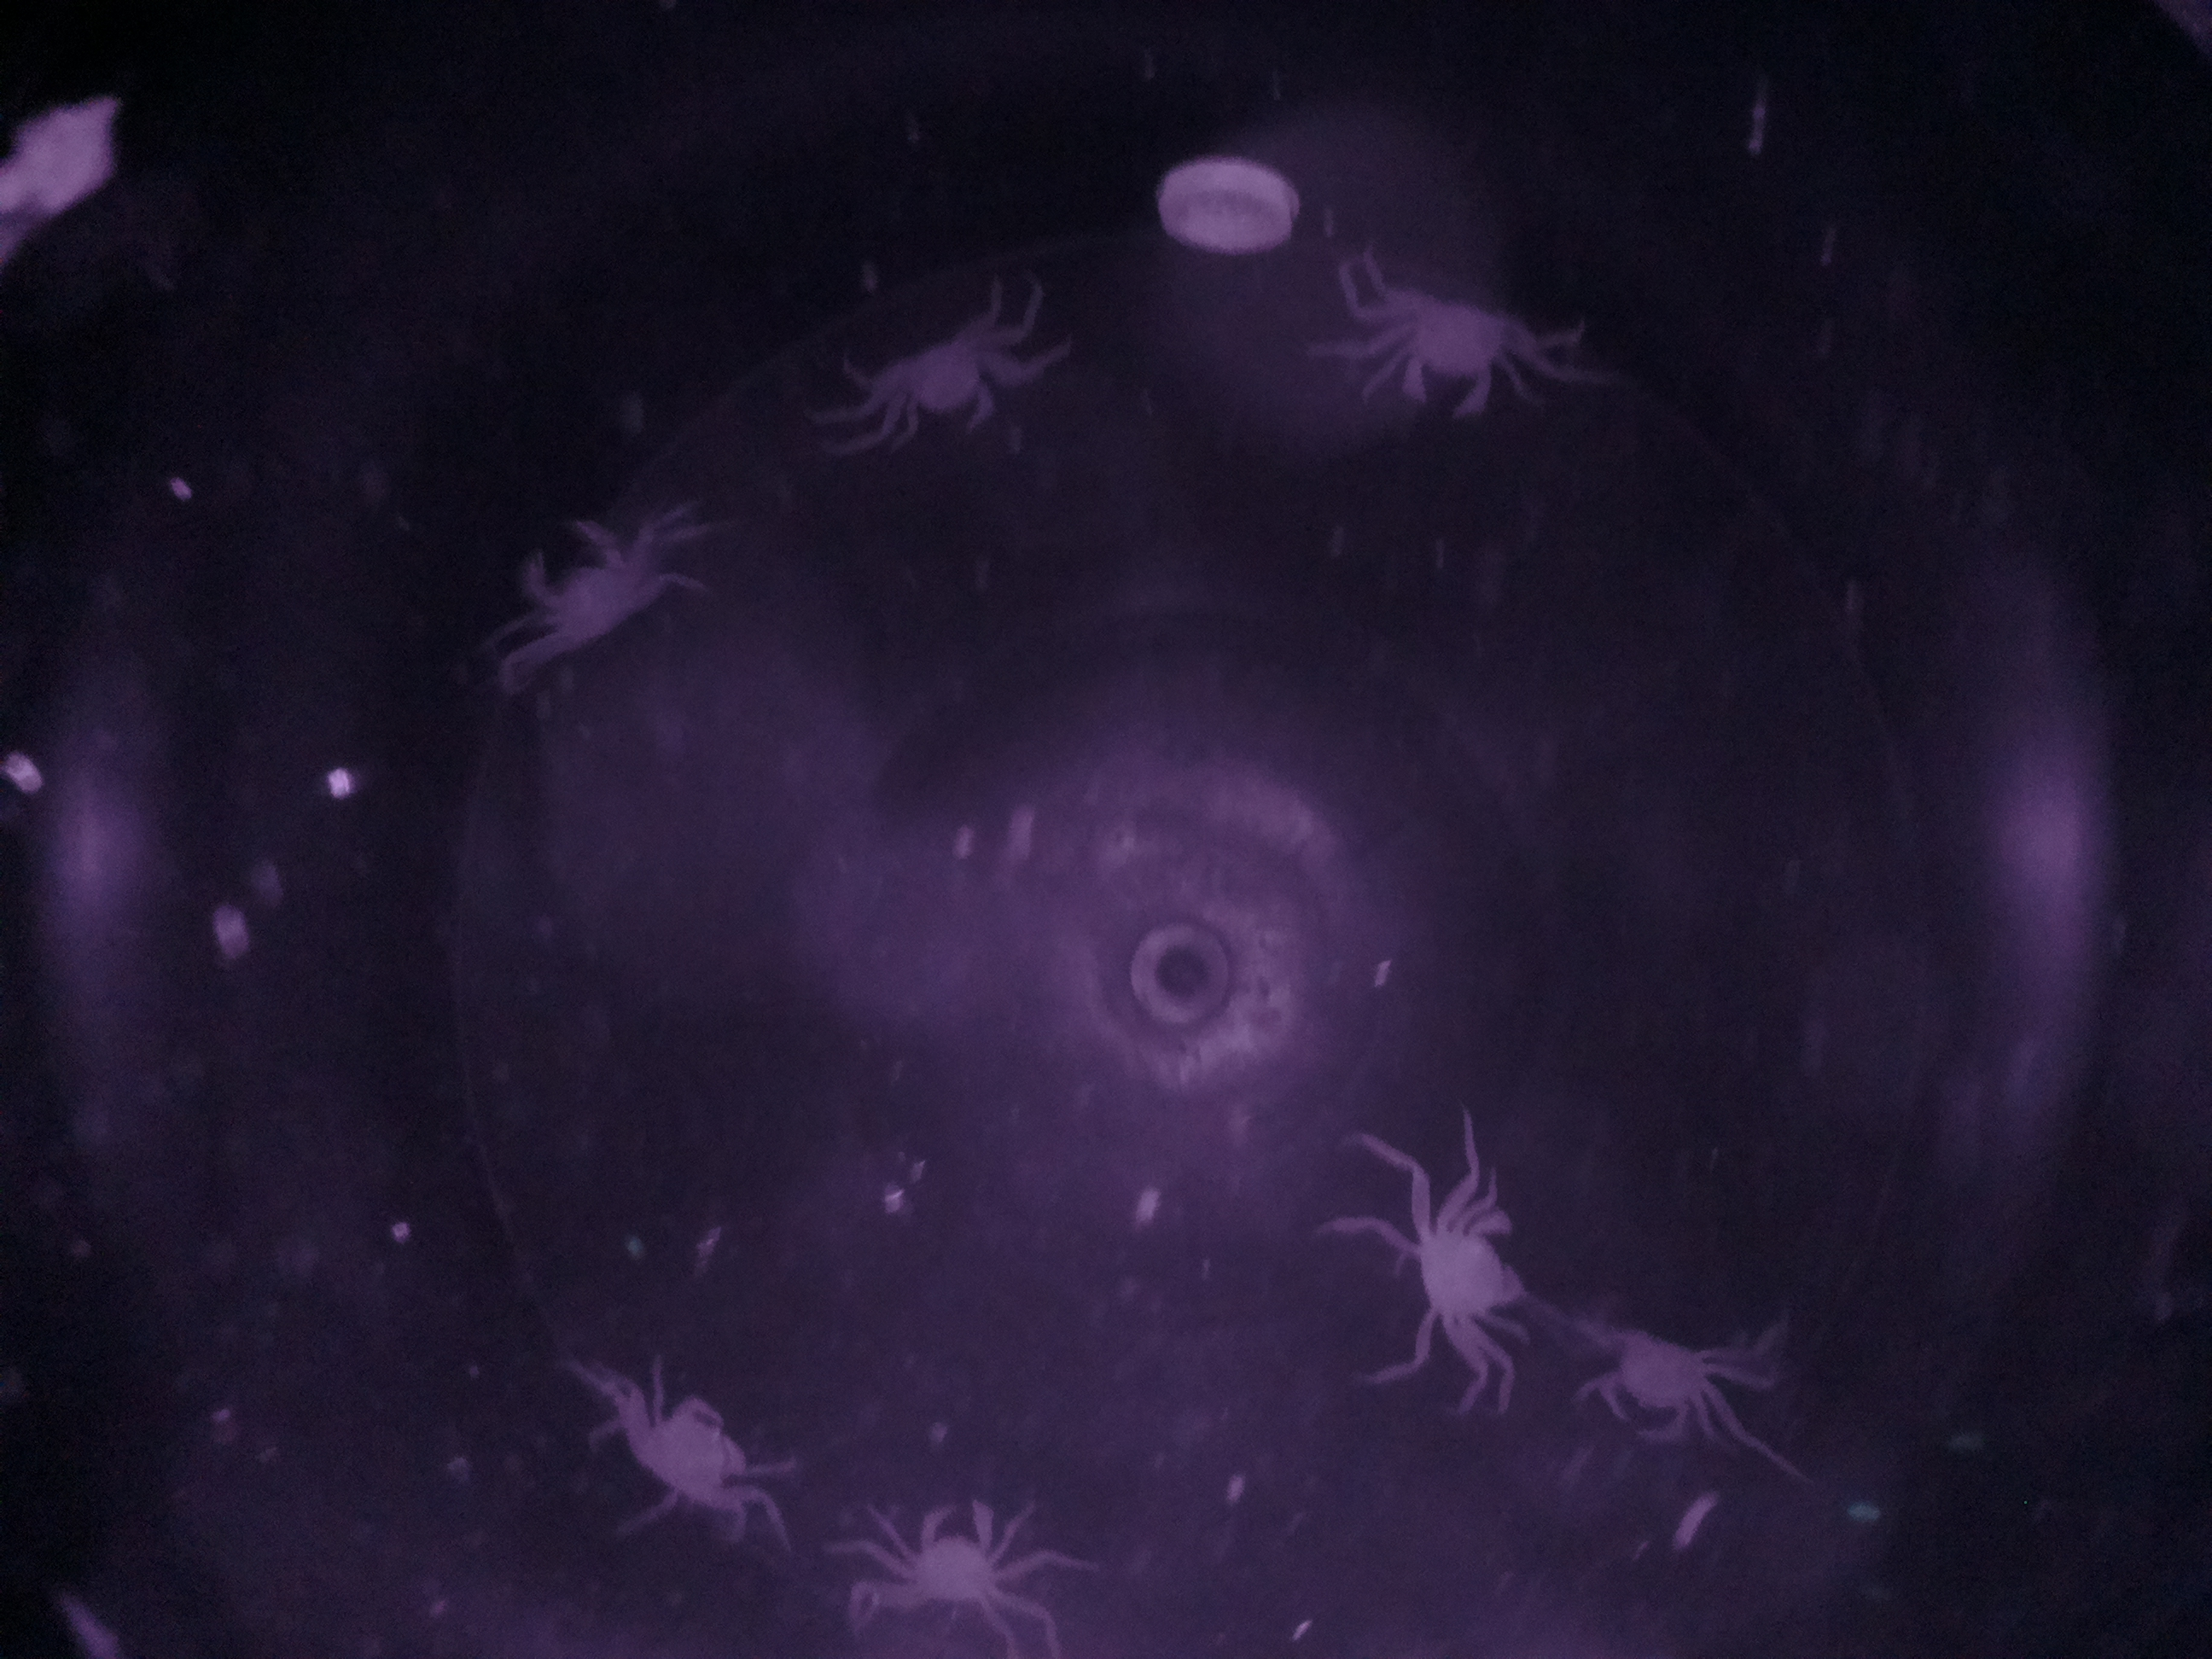Crab: (1554, 1286, 1778, 1462), (798, 303, 1043, 460), (1372, 1162, 1547, 1382), (481, 486, 665, 678), (606, 1361, 770, 1560), (1357, 275, 1555, 437), (871, 1480, 1050, 1631)
